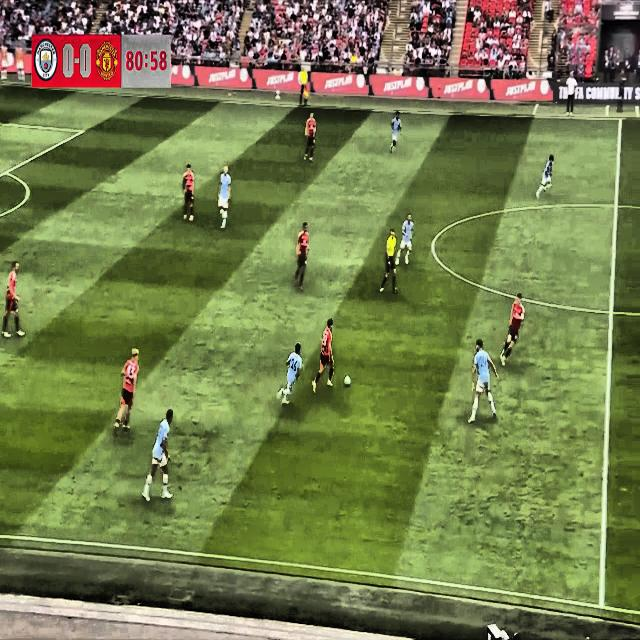ball: (340, 372, 354, 399)
players: (142, 407, 178, 507), (110, 344, 144, 444), (466, 338, 500, 429), (271, 335, 303, 412), (499, 287, 527, 375), (311, 315, 341, 396), (1, 261, 23, 343), (288, 219, 312, 291), (396, 207, 418, 275), (216, 160, 237, 230), (536, 153, 558, 212), (303, 108, 320, 176), (181, 162, 198, 224), (389, 105, 405, 162)
refree: (376, 226, 402, 299), (294, 56, 310, 110)
